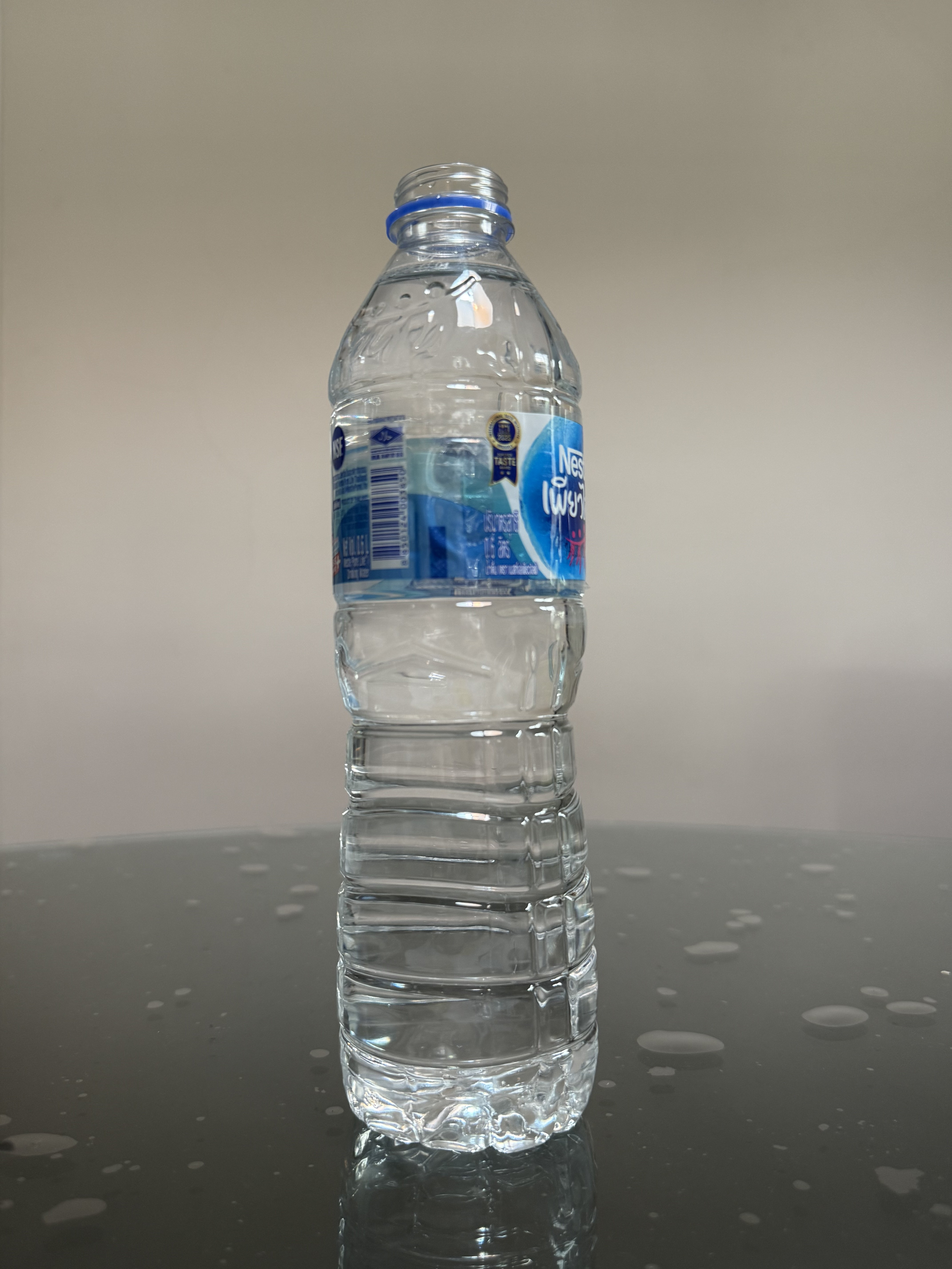no_cap: (381, 159, 519, 249)
